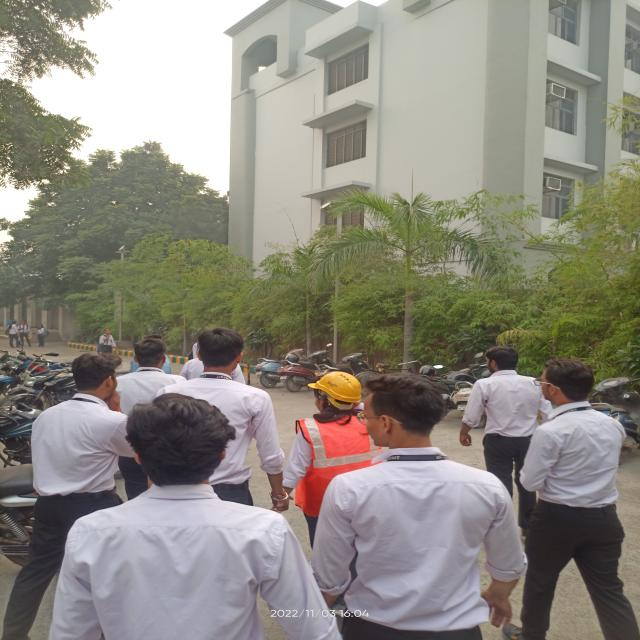safe: (294, 366, 387, 555)
unsafe: (65, 389, 309, 555), (325, 372, 530, 556), (522, 357, 629, 558), (167, 325, 275, 505), (35, 351, 130, 530), (460, 346, 542, 530), (96, 328, 118, 354), (18, 319, 30, 346), (8, 320, 19, 348), (37, 324, 49, 348)
